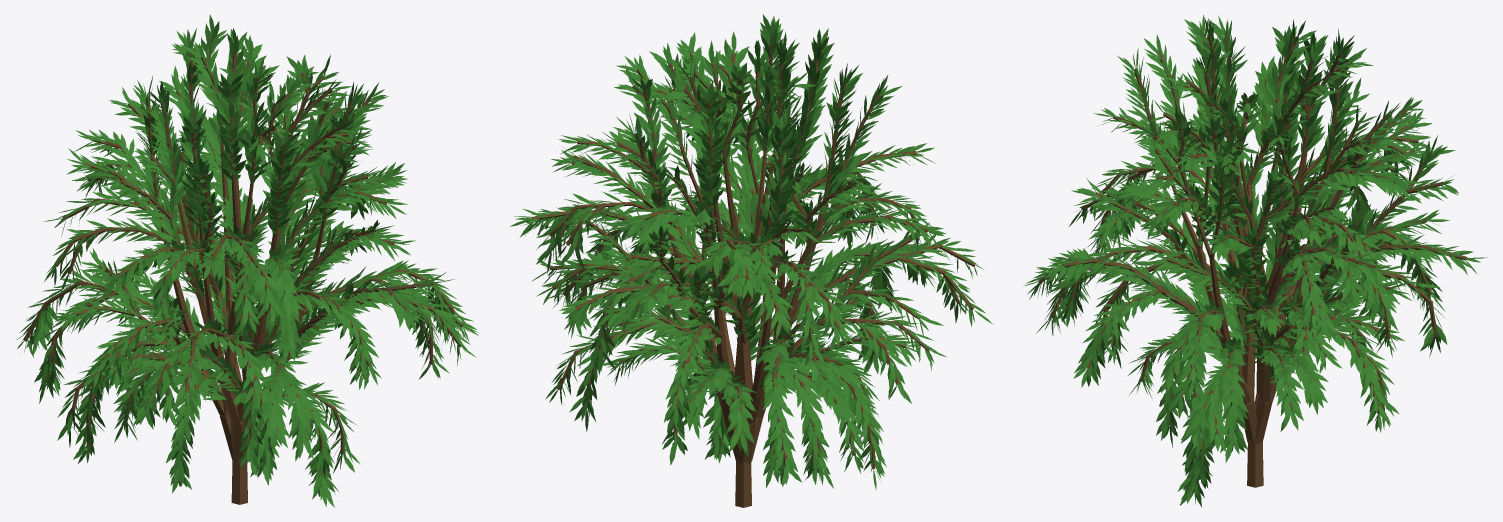
The model's file is TREEEEEEE.glb.
The picture shows the model from 3 angles, left to right: view 1: azimuth 30°, elevation 25°; view 2: azimuth 150°, elevation 25°; view 3: azimuth 270°, elevation 25°; orthographic projection. The views are drawn at different scales.
Visible parts, largest first — view 1: leaves, tree; view 2: leaves, tree; view 3: leaves, tree.
Part boxes in pixels (left/top/right/bottom): leaves: left=16, top=15, right=478, bottom=507; tree: left=23, top=36, right=463, bottom=504; leaves: left=510, top=14, right=993, bottom=489; tree: left=531, top=36, right=975, bottom=507; leaves: left=1023, top=15, right=1487, bottom=507; tree: left=1038, top=35, right=1466, bottom=487.
Size of the model in its own units: 7.19 by 8.12 by 7.38.
